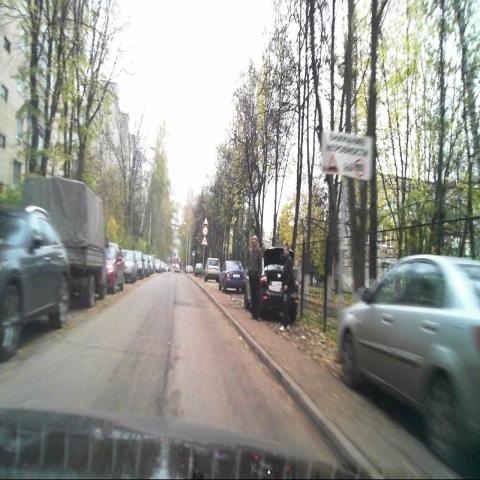1_16: (202, 216, 209, 227)
